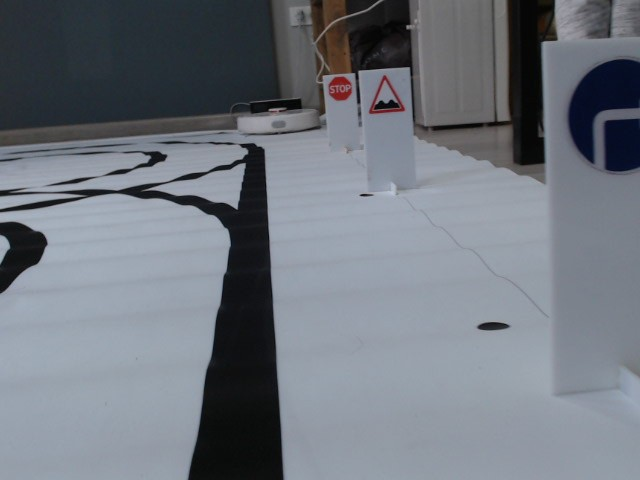Nerov: (368, 73, 405, 114)
Right: (565, 54, 640, 177)
Stop: (328, 75, 353, 101)
